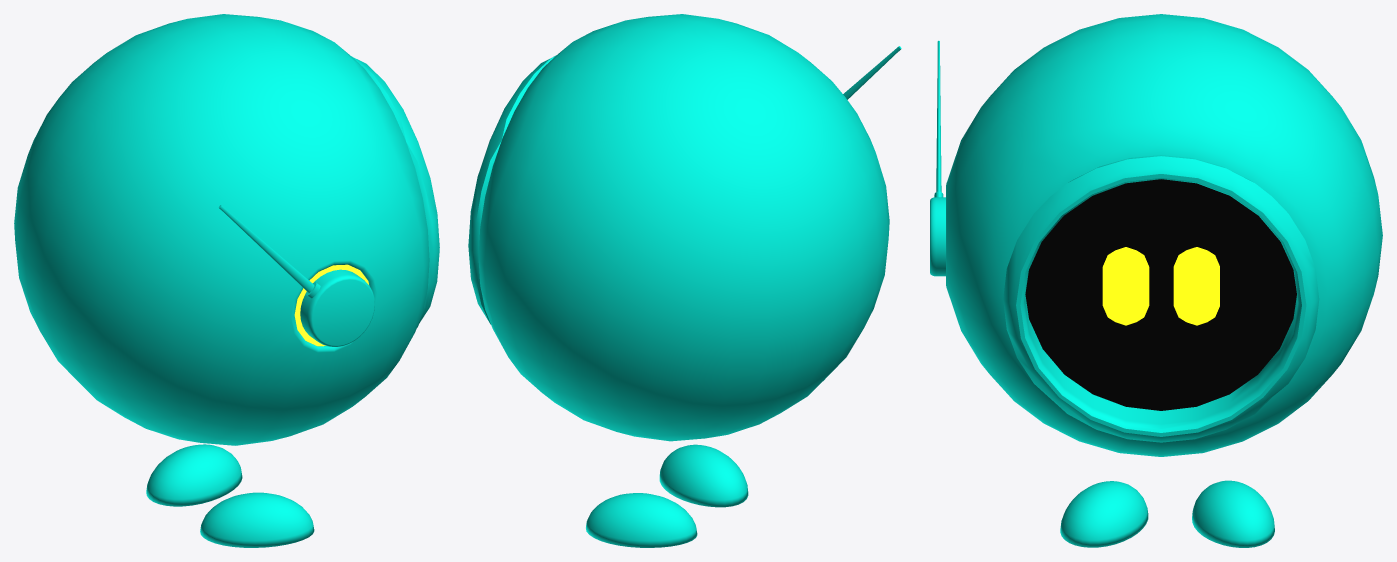
Rendered from cute_robot.glb.
The picture shows the model from 3 angles, left to right: view 1: azimuth 30°, elevation 25°; view 2: azimuth 150°, elevation 25°; view 3: azimuth 270°, elevation 25°; orthographic projection. The views are drawn at different scales.
Parts seen in each view (by area): view 1: Cylinder_0, Cube.002_1; view 2: Cylinder_0, Cube.002_1; view 3: Cylinder_0, Cube.002_1, Plane_2, Plane.001_3.
Part boxes in pixels (x1=…): Cylinder_0: x1=14, y1=14, x2=439, y2=445; Cube.002_1: x1=146, y1=444, x2=314, y2=547; Cylinder_0: x1=468, y1=14, x2=901, y2=441; Cube.002_1: x1=586, y1=444, x2=748, y2=547; Cylinder_0: x1=930, y1=14, x2=1382, y2=456; Cube.002_1: x1=1060, y1=480, x2=1274, y2=547; Plane_2: x1=1102, y1=247, x2=1149, y2=325; Plane.001_3: x1=1173, y1=247, x2=1219, y2=325.
Size of the model in its own units: 1.49 by 2.09 by 1.75.
